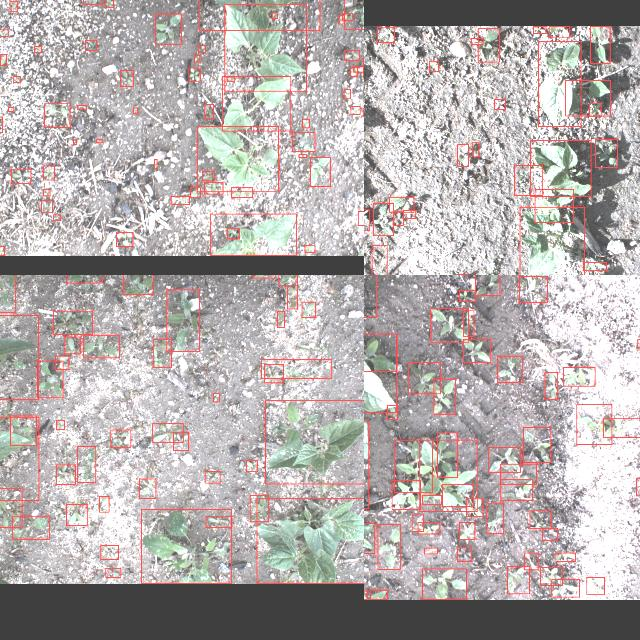crop: (256, 498, 364, 583), (264, 400, 364, 484), (224, 4, 306, 90), (141, 510, 231, 584), (196, 126, 278, 192), (518, 207, 583, 275), (222, 76, 290, 132), (210, 214, 296, 256), (538, 42, 580, 126), (198, 0, 319, 29), (530, 140, 590, 196), (0, 314, 38, 399), (0, 417, 38, 500), (364, 333, 396, 412), (564, 80, 610, 116)
weed: (419, 440, 476, 512), (166, 289, 198, 351), (394, 440, 432, 492), (576, 404, 612, 444), (422, 568, 466, 600), (260, 359, 330, 378), (430, 308, 468, 342), (534, 190, 574, 222), (364, 333, 396, 371), (377, 524, 399, 570), (408, 362, 440, 393), (36, 360, 62, 398), (52, 310, 92, 334), (522, 428, 550, 462), (437, 432, 457, 478), (390, 480, 420, 510), (83, 334, 119, 358), (12, 516, 48, 540), (514, 165, 542, 195), (0, 488, 21, 527), (155, 14, 181, 44), (10, 415, 36, 445), (488, 448, 520, 472), (477, 28, 499, 62), (518, 276, 546, 302), (602, 418, 640, 437), (589, 26, 609, 62), (500, 464, 536, 484), (434, 378, 454, 414), (496, 356, 522, 382), (595, 138, 617, 168), (373, 202, 393, 235), (442, 484, 472, 506), (77, 446, 95, 482), (43, 104, 69, 128), (501, 480, 532, 500), (507, 566, 529, 594), (462, 340, 490, 362), (309, 157, 329, 187), (152, 338, 172, 368), (564, 366, 594, 386), (344, 0, 364, 29), (123, 275, 153, 294), (152, 423, 182, 442), (0, 275, 14, 312), (486, 502, 502, 534), (249, 494, 267, 522), (551, 579, 579, 597), (474, 275, 499, 295), (371, 245, 386, 275), (292, 132, 314, 152), (66, 504, 86, 526), (388, 196, 414, 212), (55, 465, 75, 485), (540, 568, 562, 586), (544, 372, 558, 398), (138, 479, 156, 499), (110, 430, 130, 448), (530, 511, 550, 529), (264, 364, 282, 382), (586, 577, 604, 595), (10, 168, 30, 184), (205, 516, 231, 528), (364, 524, 374, 554), (376, 26, 394, 42), (64, 336, 80, 354), (172, 432, 188, 450), (458, 522, 474, 540), (466, 498, 482, 516), (462, 310, 473, 336), (417, 522, 439, 534), (65, 275, 101, 282), (100, 546, 118, 560), (457, 144, 468, 166), (116, 233, 132, 247), (523, 554, 537, 570), (230, 188, 252, 198), (548, 26, 570, 36), (287, 286, 297, 308), (204, 182, 222, 194), (411, 514, 423, 532), (555, 552, 575, 562), (301, 302, 315, 316), (54, 355, 68, 369), (457, 548, 471, 562), (120, 70, 132, 86), (582, 263, 606, 271), (204, 471, 220, 483), (541, 528, 557, 540), (277, 275, 296, 285), (458, 290, 476, 300), (369, 590, 386, 600), (42, 166, 54, 180), (588, 102, 600, 116), (98, 496, 108, 512), (422, 496, 441, 504), (188, 68, 200, 80), (170, 196, 188, 204), (344, 50, 358, 60), (393, 211, 403, 225), (106, 568, 120, 578), (387, 405, 397, 419), (40, 200, 51, 212), (204, 104, 212, 120), (276, 311, 284, 327), (201, 171, 213, 181), (227, 229, 239, 239), (84, 40, 96, 50), (428, 60, 438, 72), (246, 460, 256, 472), (364, 209, 369, 230), (190, 188, 200, 198), (494, 99, 504, 109), (357, 211, 364, 225), (403, 210, 415, 218), (635, 478, 640, 496), (532, 26, 546, 32), (472, 143, 478, 157), (350, 106, 360, 114), (9, 1, 17, 11), (56, 420, 64, 430), (0, 54, 6, 66), (470, 38, 482, 44), (424, 548, 436, 554), (304, 245, 314, 252), (352, 66, 363, 72), (342, 14, 352, 20), (343, 89, 349, 99), (212, 392, 218, 402), (349, 68, 356, 76), (105, 0, 113, 7), (302, 119, 308, 128), (0, 29, 7, 36), (338, 16, 344, 24), (226, 76, 234, 82), (12, 76, 20, 82), (362, 56, 364, 77), (198, 46, 205, 52), (42, 190, 49, 196), (636, 339, 640, 349), (271, 12, 277, 18), (76, 105, 85, 109), (34, 46, 40, 52), (298, 154, 306, 158), (194, 54, 198, 61), (52, 216, 59, 220), (0, 246, 3, 255), (132, 108, 138, 112), (8, 106, 12, 112), (364, 591, 367, 599), (154, 159, 156, 169), (362, 109, 364, 117), (72, 140, 76, 144), (96, 140, 102, 142)
